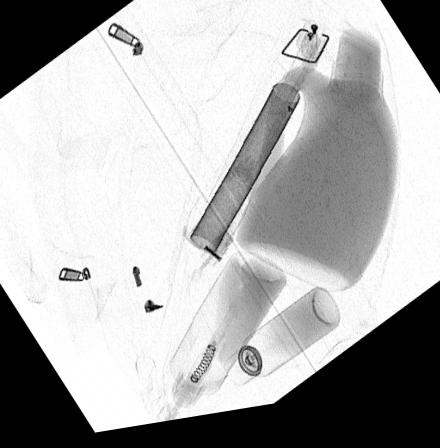Sprayer: (222, 296, 340, 392)
